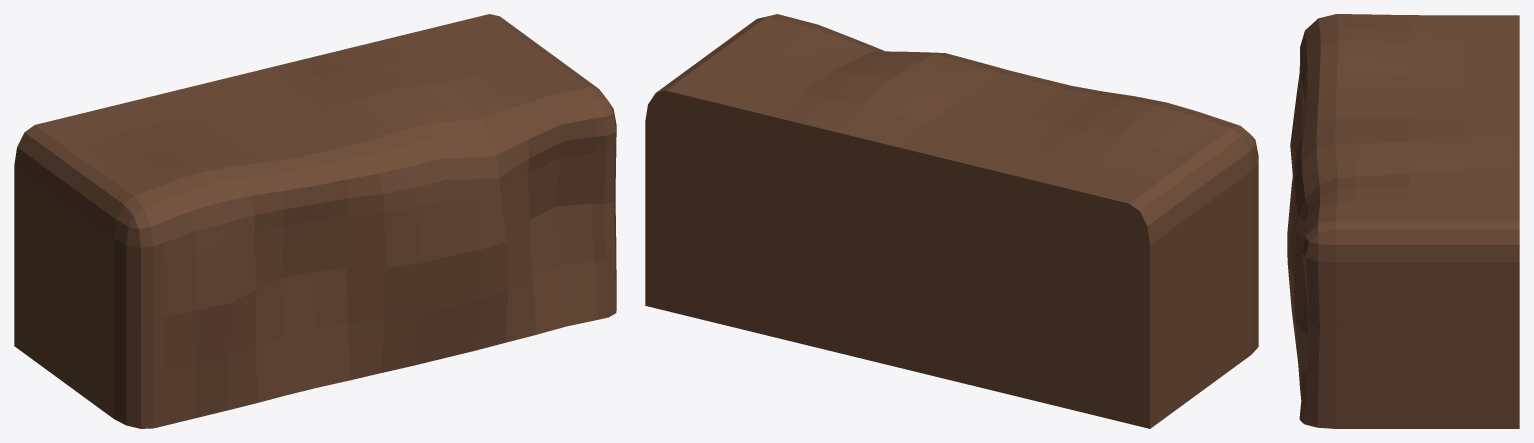
File: Dirt_platform01.fbx
3 renders of one model, left to right at view 1: azimuth 30°, elevation 25°; view 2: azimuth 150°, elevation 25°; view 3: azimuth 270°, elevation 25°, orthographic. The views are drawn at different scales.
Parts seen in each view (by area): view 1: Cube.004; view 2: Cube.004; view 3: Cube.004.
Boxes of the visible parts, x1,y1,x2,y2 form: Cube.004: (14,14,616,428); Cube.004: (645,14,1258,428); Cube.004: (1287,14,1519,428).
Bounding box in the file's own units: 480 × 207 × 211.
